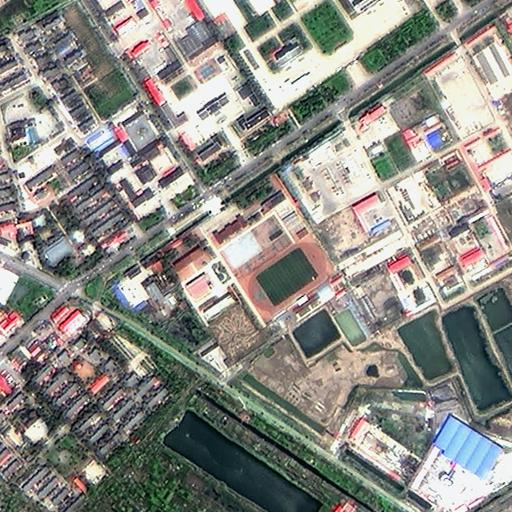school: (163, 169, 338, 333)
